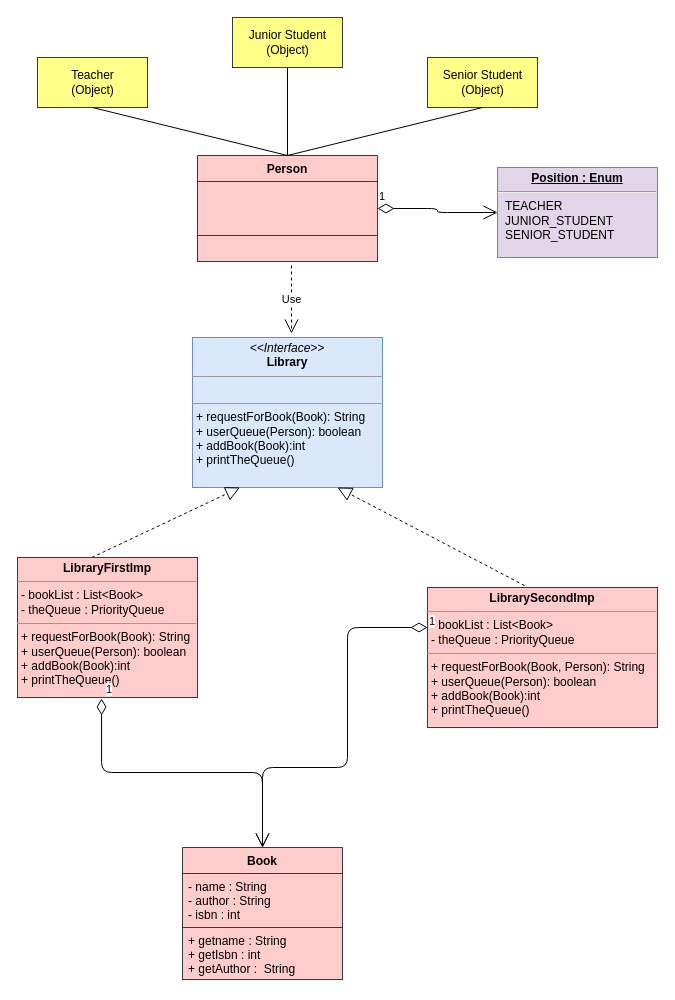
The diagram is 675 pixels wide and 1000 high, and some of its shapes have lost their labels. The shapes that lost their labels are listed below. From the top down, each one's centre as x and y in pixels, then its label:
the point at 287,208: - name : String - level : int - Position : Enum
the point at 287,248: + assignLevel()
